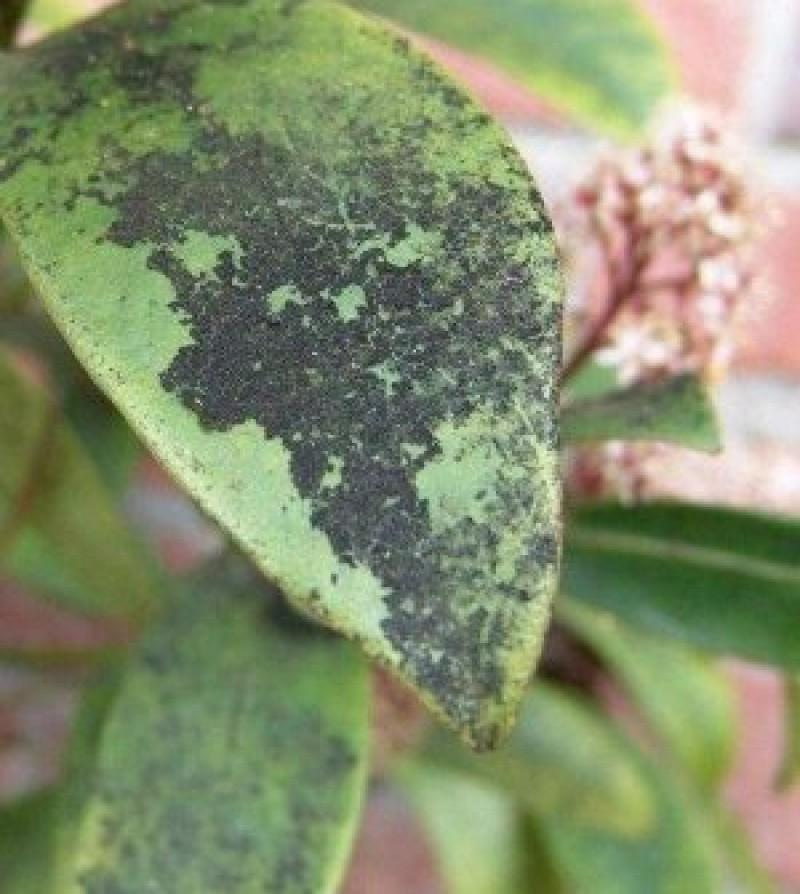soot dew: (3, 0, 563, 749)
